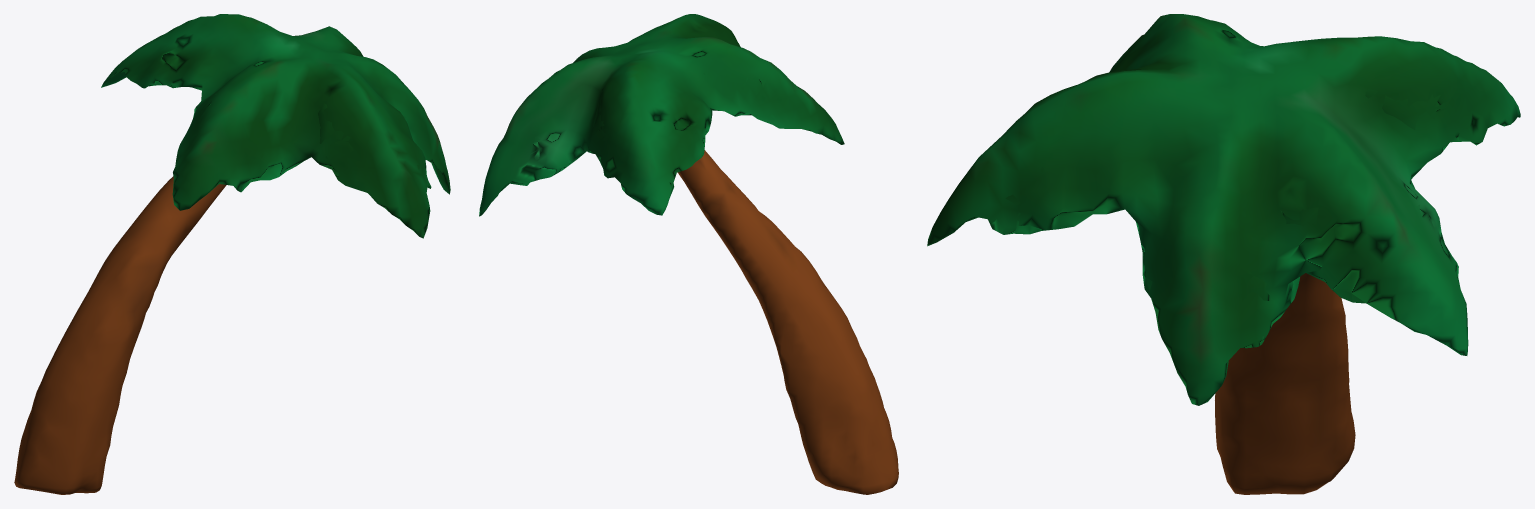
The model's file is Palmier_03(lowPoly).fbx.
3 views of the same model, side by side, from view 1: azimuth 30°, elevation 25°; view 2: azimuth 150°, elevation 25°; view 3: azimuth 270°, elevation 25° (orthographic). The views are drawn at different scales.
Parts seen in each view (by area): view 1: PM3D_Cylinder3D1; view 2: PM3D_Cylinder3D1; view 3: PM3D_Cylinder3D1.
Part boxes in pixels (x1=…): PM3D_Cylinder3D1: x1=14, y1=14, x2=450, y2=494; PM3D_Cylinder3D1: x1=479, y1=14, x2=898, y2=494; PM3D_Cylinder3D1: x1=927, y1=14, x2=1520, y2=494.
Size of the model in its own units: 5.58 by 5.32 by 4.86.
